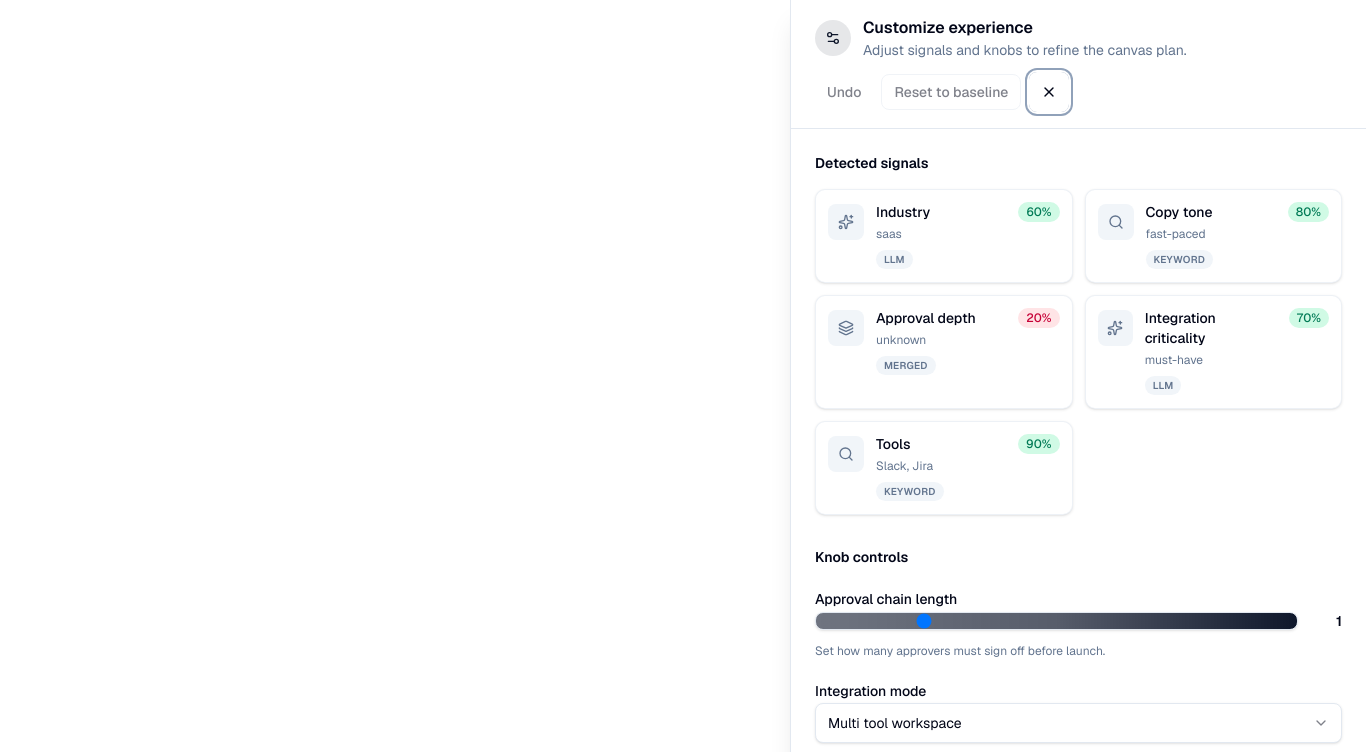
CustomizeDrawer history controls › restores previous knob state when undo is pressed
Set the slider labelled "Approval chain length" to "3": [1103, 621] box [815,612,1298,630]
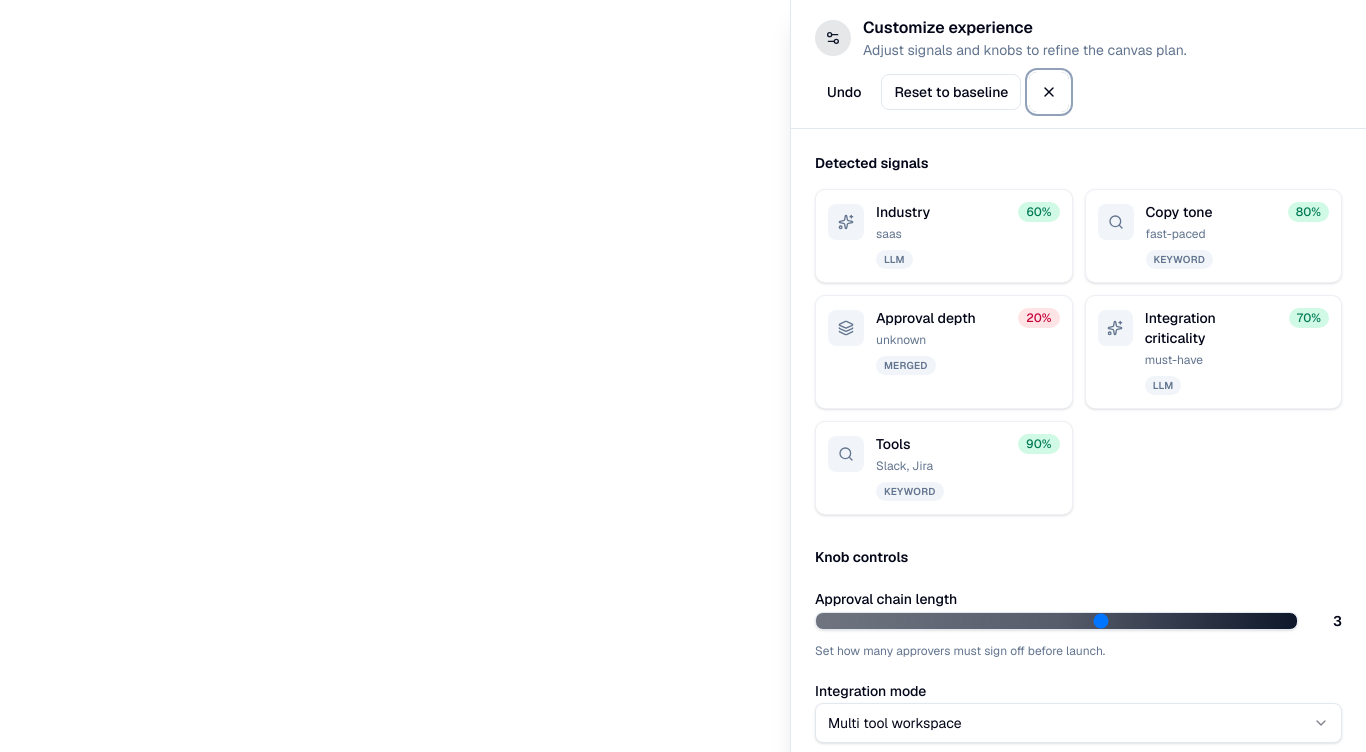
Now the button "Undo" is enabled
Click the button "Undo": [844, 92] box [815,74,873,110]
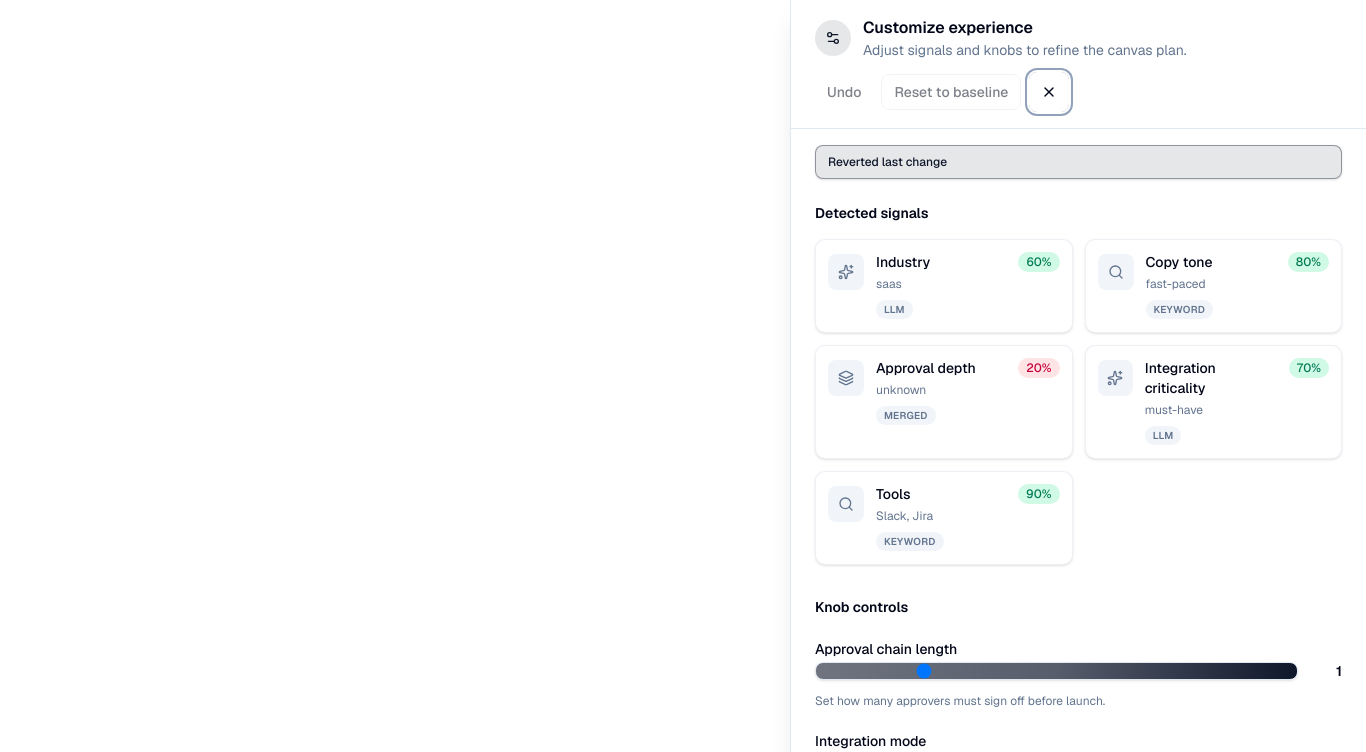
Now the slider labelled "Approval chain length" holds "1", box [815,662,1298,680]
Now the message reads "Reverted last change", box [828,154,947,170]
